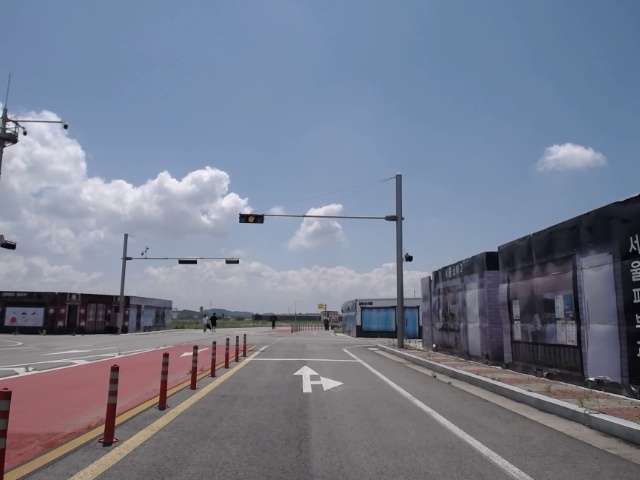orange_3: (238, 214, 264, 222)
